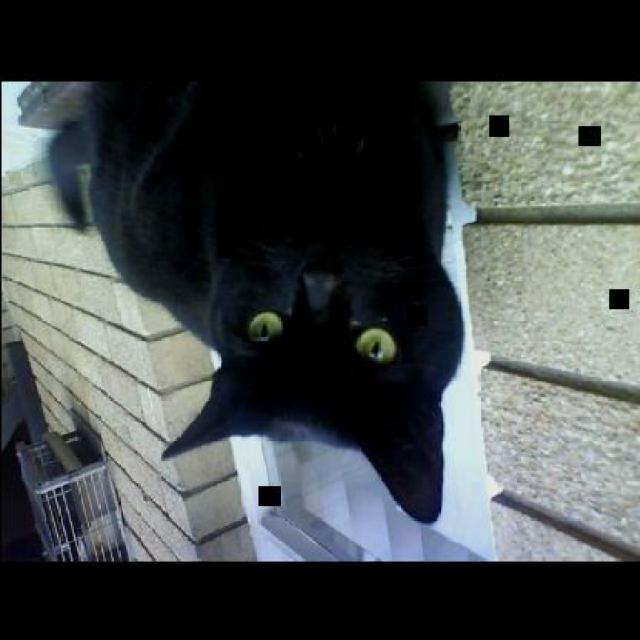unauthorized: (17, 66, 465, 523)
